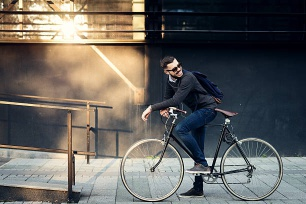male: (154, 53, 191, 90)
